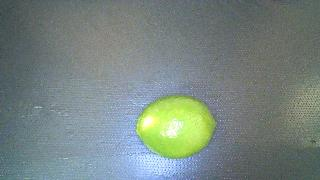EXPORTACION: (136, 95, 216, 159)
